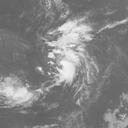cyclone: (47, 32, 88, 88)
